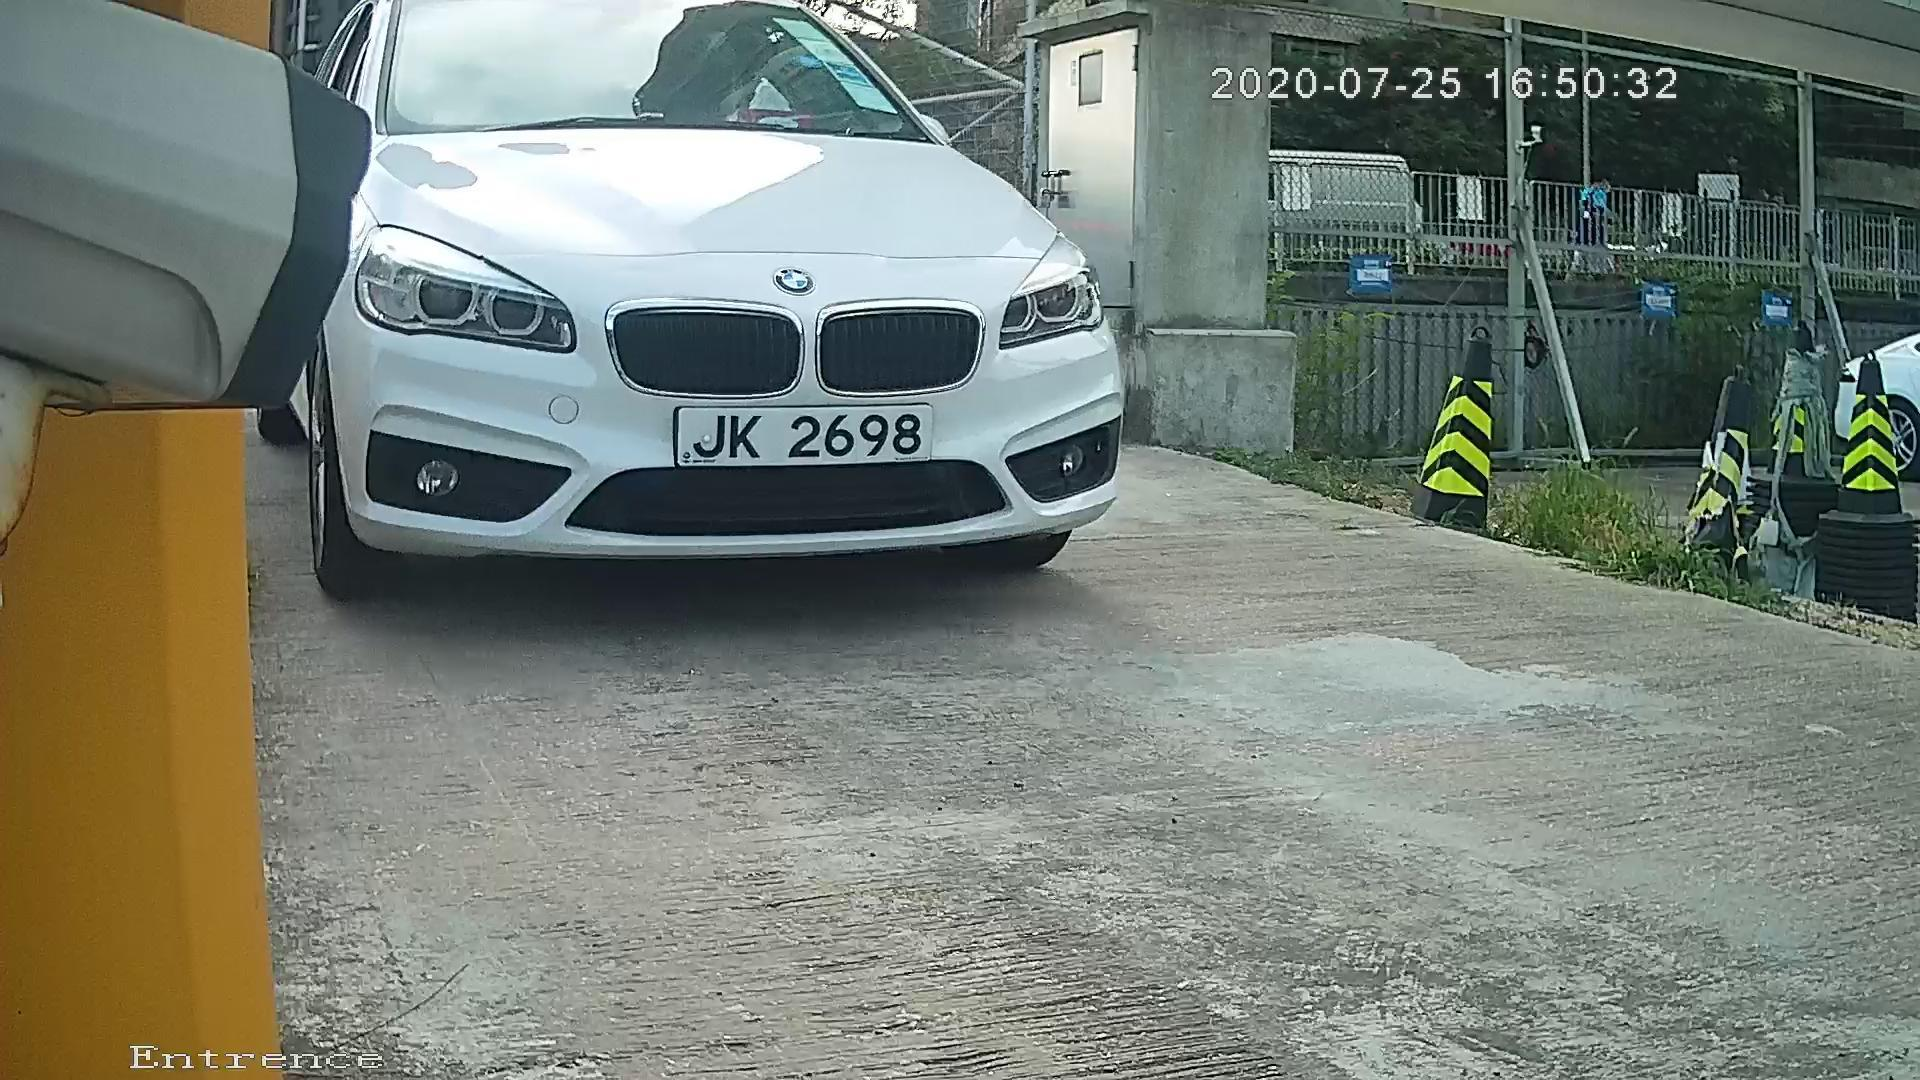privatecar: (223, 11, 1346, 626)
